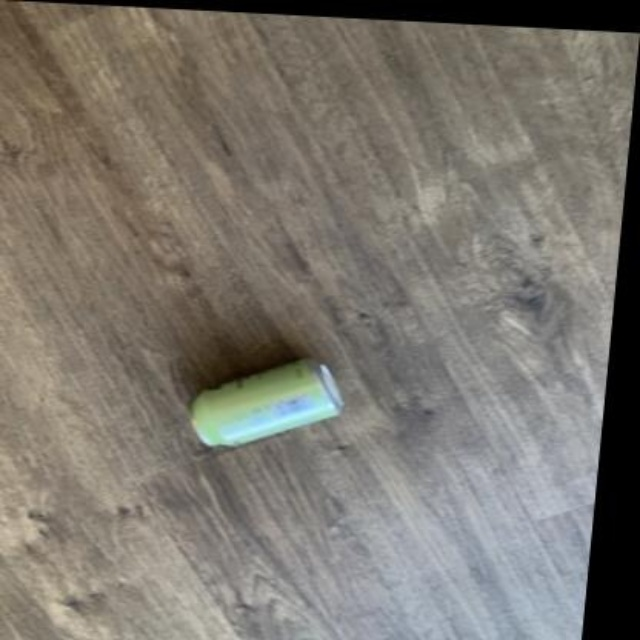trash: (192, 360, 343, 445)
